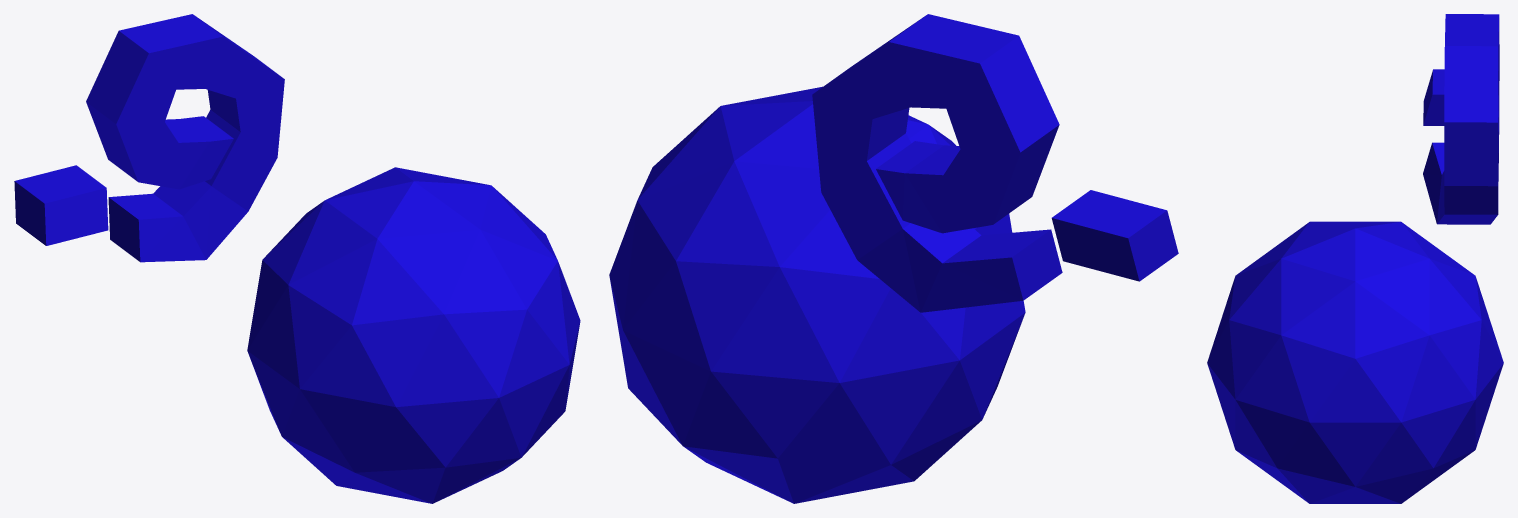
File: electron.dae
The picture shows the model from 3 angles, left to right: view 1: azimuth 30°, elevation 25°; view 2: azimuth 150°, elevation 25°; view 3: azimuth 270°, elevation 25°; orthographic projection. The views are drawn at different scales.
Visible parts, largest first — view 1: electron; view 2: electron; view 3: electron.
Boxes of the visible parts, box(x1,y1,x2,y2) form: electron: box(14, 14, 580, 503); electron: box(609, 14, 1178, 503); electron: box(1207, 14, 1503, 503).
Size of the model in its own units: 3.18 by 2 by 2.92.
